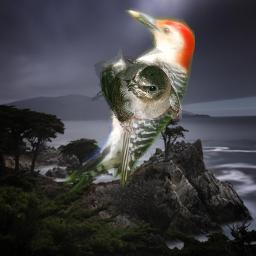Swallow: (89, 56, 182, 139)
Woodpecker: (58, 2, 195, 200)
